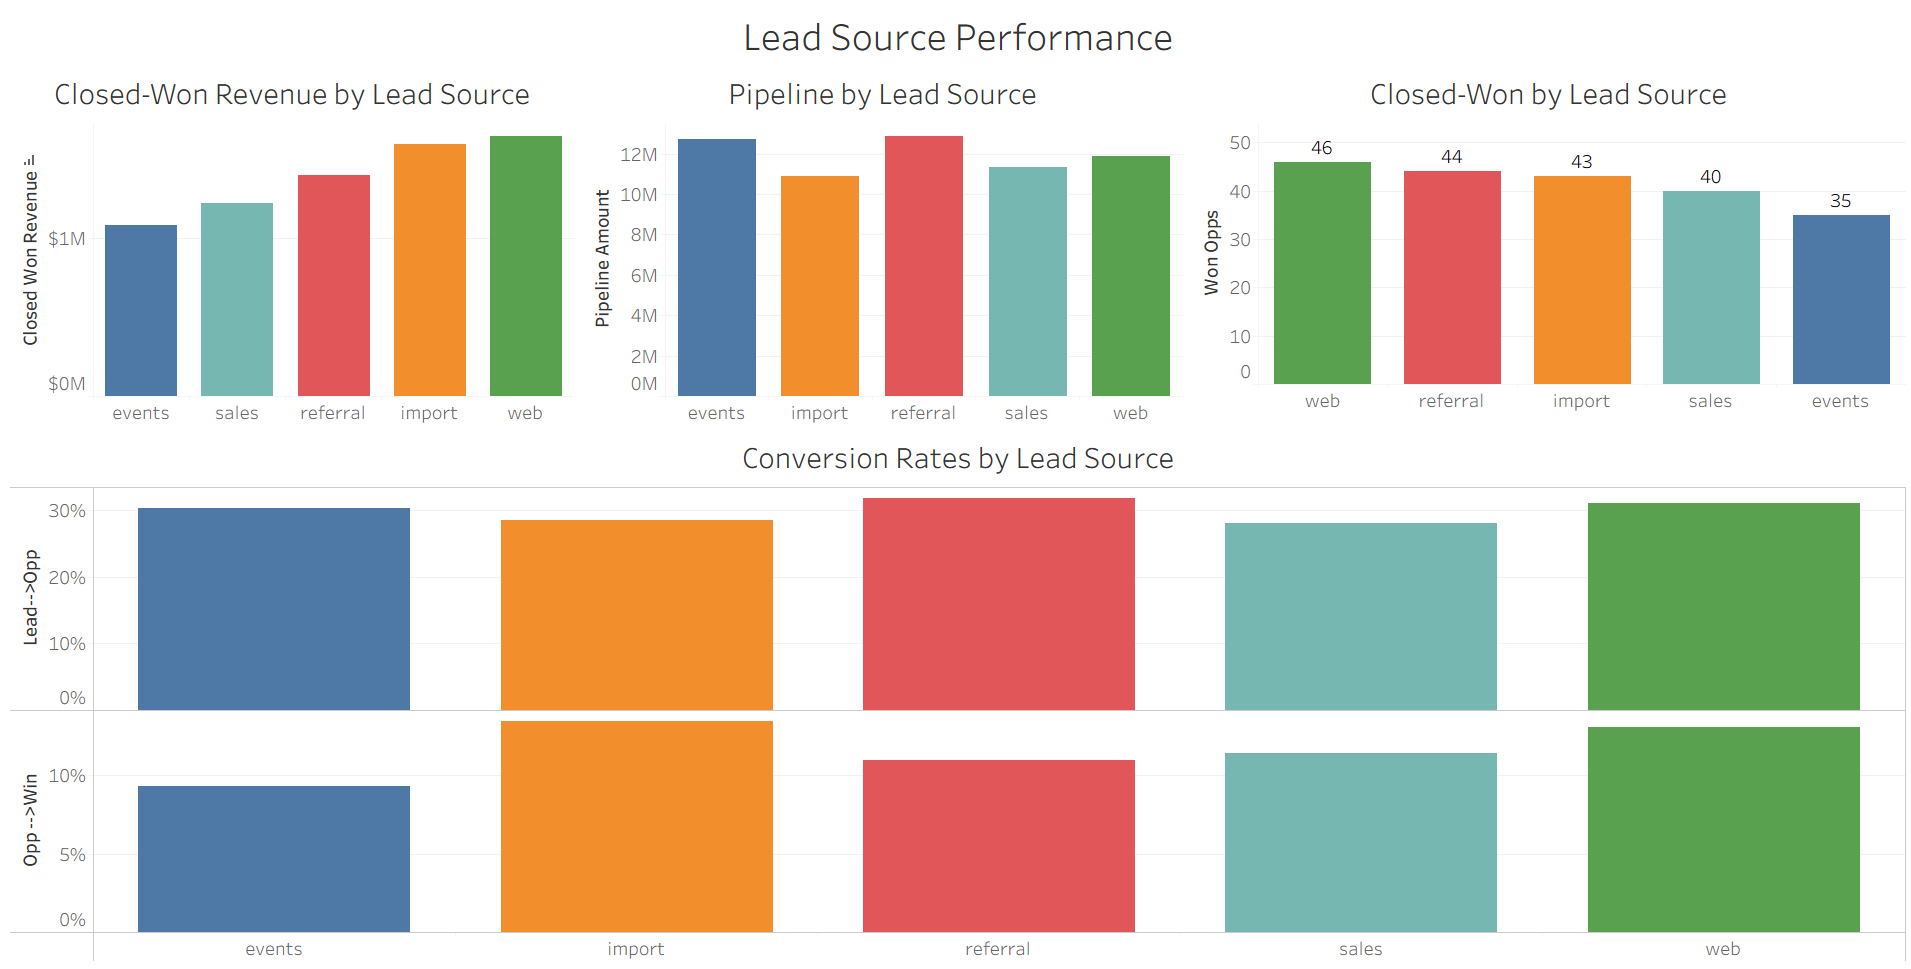

What the dashboard file says about the page in this screenshot:
{"tool":"tableau","page":{"name":"Lead Source Performance","canvas":[1000,1000],"units":"permille","ordinal":4},"visuals":[{"type":"title","box":[5.1,10.6,989.7,76.5]},{"type":"worksheet","title":"rev","mark":"Automatic","rows":["closed_won_revenue"],"cols":["lead_source"],"box":[5.1,87.1,297.4,364.8]},{"type":"worksheet","title":"plbyls","mark":"Automatic","rows":["pipeline_amount"],"cols":["lead_source"],"box":[302.6,87.1,316.7,364.8]},{"type":"worksheet","title":"lead_per","mark":"Bar","rows":["won_opps"],"cols":["lead_source"],"box":[619.2,87.1,375.7,364.8]},{"type":"worksheet","title":"lead%","mark":"Automatic","rows":["lead_to_opp_rate","opp_to_win_rate"],"cols":["lead_source"],"box":[5.1,451.9,989.7,537.5]}]}

Visuals, with their boxes on the dashboard's canvas, which has no fixed pixel size, in thousandths of its width and height (x1, y1, x2, y2). These are canvas units, not pixel positions in the 1911x969 screenshot, which may show the page scaled, cropped or inside an application window:
title: select_region(5, 11, 995, 87)
"rev" worksheet: select_region(5, 87, 302, 452)
"plbyls" worksheet: select_region(303, 87, 619, 452)
"lead_per" worksheet (Bar marks): select_region(619, 87, 995, 452)
"lead%" worksheet: select_region(5, 452, 995, 989)
